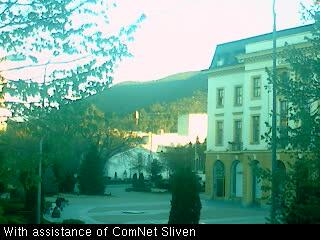person: (55, 196, 63, 212)
